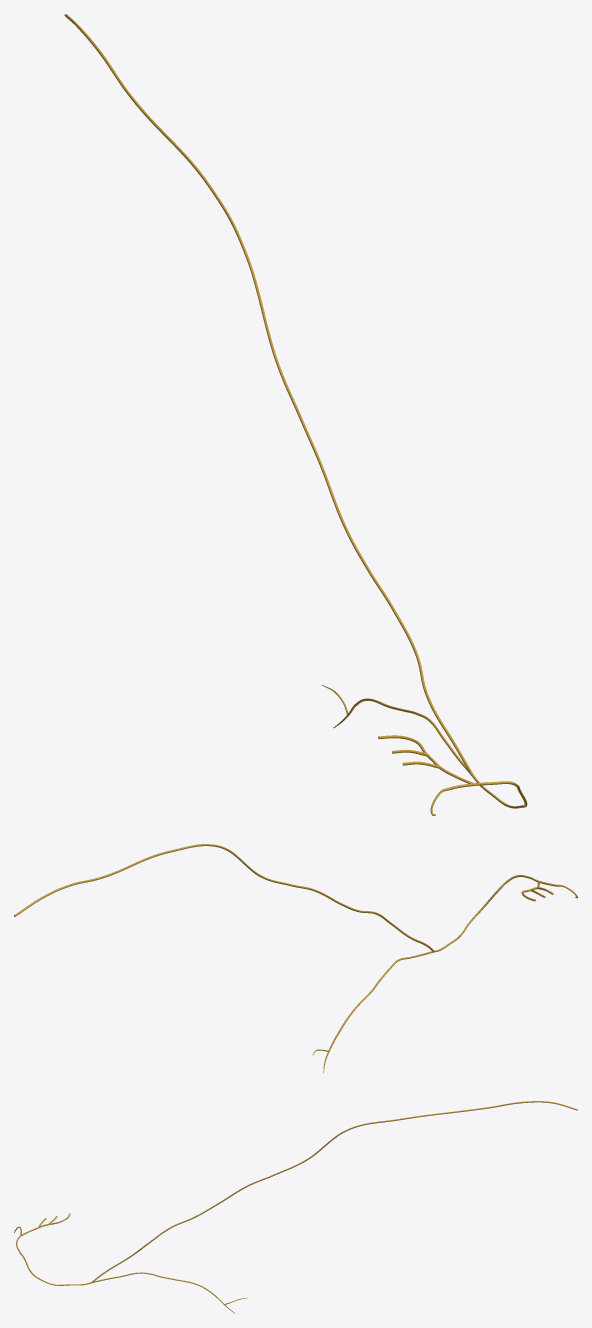
3 renders of one model, top to bottom at view 1: azimuth 30°, elevation 25°; view 2: azimuth 150°, elevation 25°; view 3: azimuth 270°, elevation 25°, orthographic. The views are drawn at different scales.
Parts seen in each view (by area): view 1: 左侧副神经; view 2: 左侧副神经; view 3: 左侧副神经.
Boxes of the visible parts, x1=… form: 左侧副神经: x1=64, y1=14, x2=527, y2=815; 左侧副神经: x1=14, y1=844, x2=577, y2=1072; 左侧副神经: x1=14, y1=1101, x2=577, y2=1313.
Bounding box in the file's own units: 0.0838 × 0.1832 × 0.4119.
